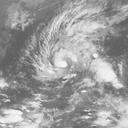cyclone: (35, 27, 90, 82)
